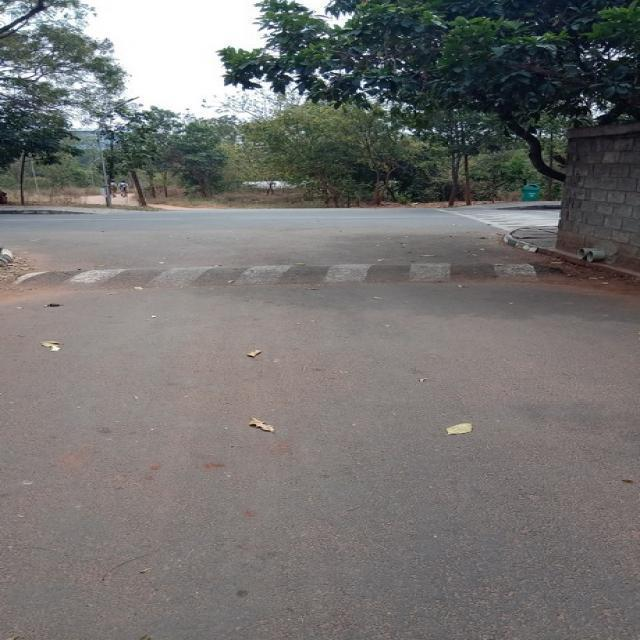speedbreaker: (0, 260, 611, 285)
